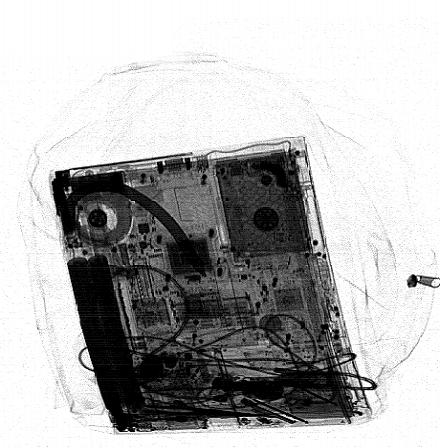Scissors: (134, 400, 278, 424)
